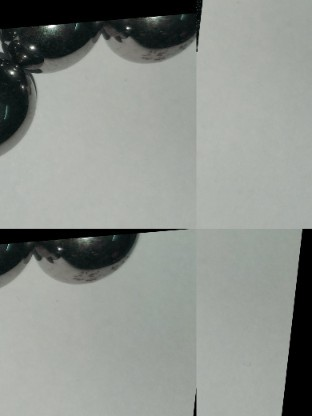ironball: (27, 234, 145, 284), (0, 25, 103, 70), (102, 16, 195, 58), (0, 67, 39, 162), (0, 231, 32, 284)
